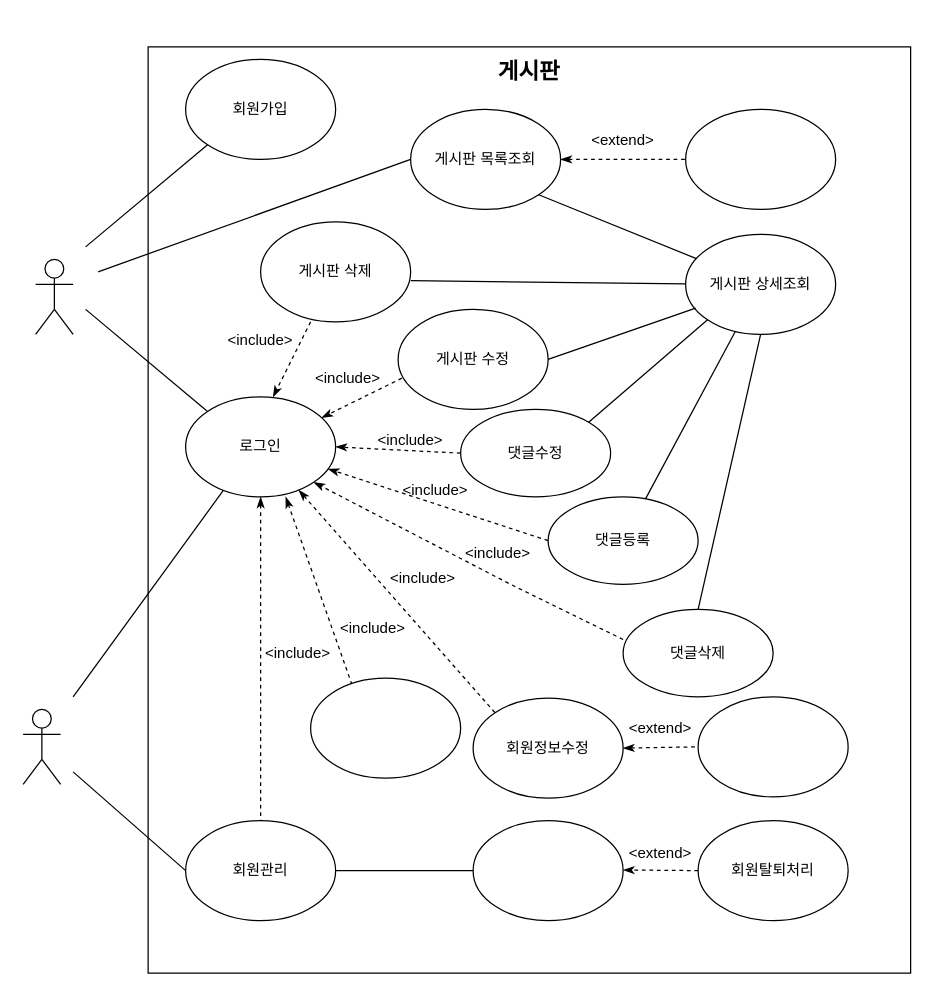
The diagram is 933 pixels wide and 995 high, and some of its shapes have lost their labels. The centre of each missing label's shape, as x and y in pixels:
"게시판 검색" belongs at point (760, 158).
"게시판 등록" belongs at point (385, 727).
"관리자" belongs at point (41, 746).
"회원" belongs at point (53, 296).
"회원정보수정처리" belongs at point (547, 870).
"회원탈퇴" belongs at point (772, 746).
